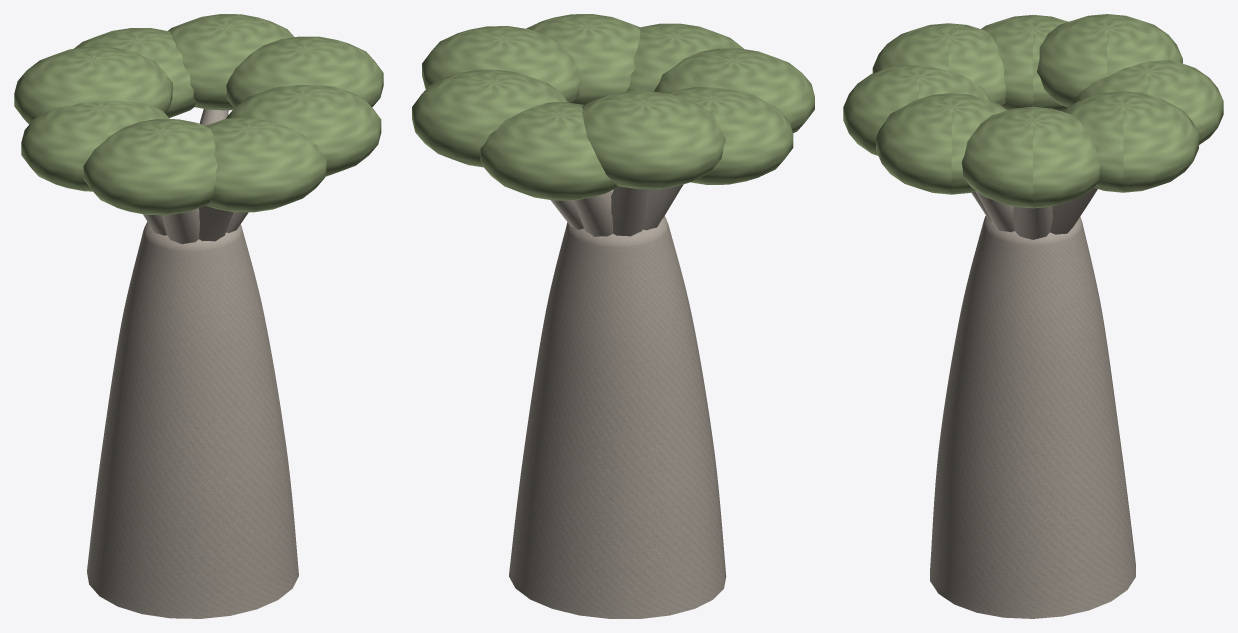
The model's file is exotic-wildlife-hd-baobab-tree-fb196805.glb.
3 renders of one model, left to right at view 1: azimuth 30°, elevation 25°; view 2: azimuth 150°, elevation 25°; view 3: azimuth 270°, elevation 25°, orthographic. The views are drawn at different scales.
Parts seen in each view (by area): view 1: baobab-tree; view 2: baobab-tree; view 3: baobab-tree.
Boxes of the visible parts, x1,y1,x2,y2 form: baobab-tree: (14,14,383,618); baobab-tree: (412,14,814,618); baobab-tree: (843,14,1223,618).
Size of the model in its own units: 5.54 by 7.76 by 5.2.
2 materials, 2 textured.
